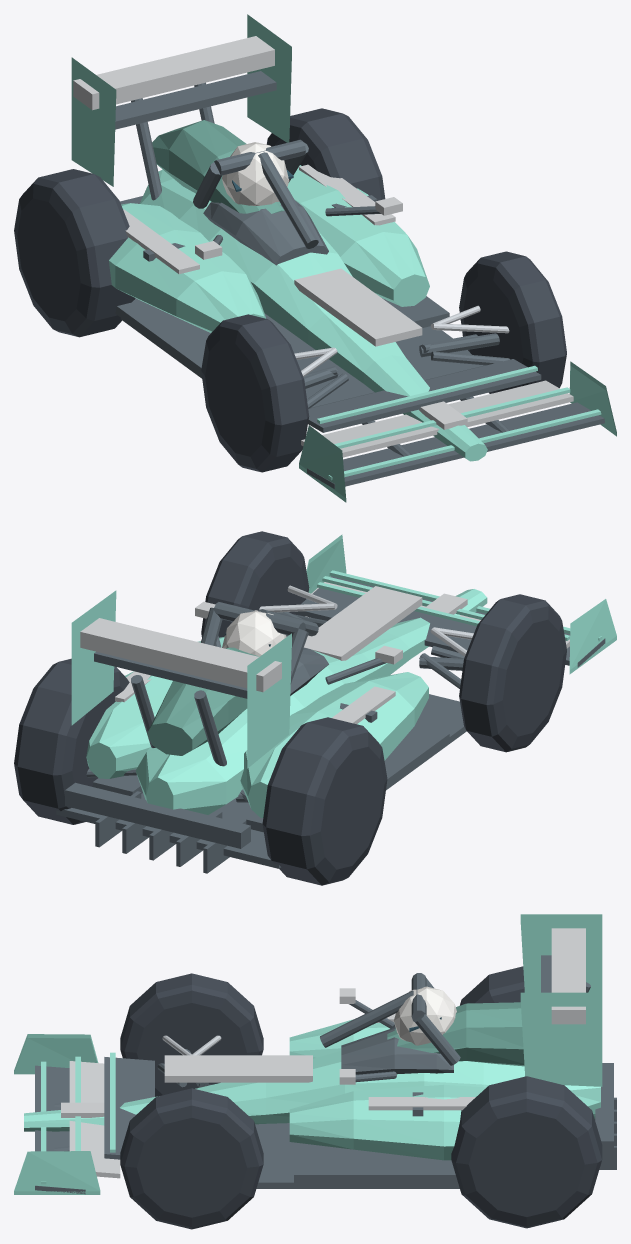
The model's file is mercedes_mobile.glb.
3 views of the same model, one above another, from view 1: azimuth 30°, elevation 25°; view 2: azimuth 150°, elevation 25°; view 3: azimuth 270°, elevation 25° (orthographic). The views are drawn at different scales.
Visible parts, largest first — view 1: BODY_paint, BODY_carbon, BODY_accent, RearLeftWheel_rubber, FrontLeftWheel_rubber, FrontRightWheel_rubber, RearRightWheel_rubber, BODY_paint_dark, BODY_helmet, BODY_metal; view 2: BODY_paint, BODY_carbon, RearLeftWheel_rubber, BODY_accent, FrontLeftWheel_rubber, RearRightWheel_rubber, FrontRightWheel_rubber, BODY_paint_dark, BODY_helmet, BODY_metal; view 3: BODY_paint, BODY_carbon, RearRightWheel_rubber, FrontRightWheel_rubber, BODY_accent, FrontLeftWheel_rubber, BODY_paint_dark, BODY_helmet, RearLeftWheel_rubber.
Boxes of the visible parts, left/top/right/bottom form: BODY_paint: left=71, top=14, right=616, bottom=502; BODY_carbon: left=115, top=71, right=604, bottom=488; BODY_accent: left=73, top=36, right=573, bottom=457; RearLeftWheel_rubber: left=14, top=169, right=135, bottom=337; FrontLeftWheel_rubber: left=201, top=314, right=309, bottom=472; FrontRightWheel_rubber: left=459, top=251, right=566, bottom=393; RearRightWheel_rubber: left=266, top=108, right=385, bottom=200; BODY_paint_dark: left=152, top=120, right=284, bottom=213; BODY_helmet: left=222, top=142, right=289, bottom=205; BODY_metal: left=294, top=305, right=509, bottom=376; BODY_paint: left=71, top=534, right=616, bottom=817; BODY_carbon: left=56, top=576, right=605, bottom=873; RearLeftWheel_rubber: left=262, top=717, right=387, bottom=885; BODY_accent: left=80, top=582, right=569, bottom=724; FrontLeftWheel_rubber: left=459, top=594, right=566, bottom=752; RearRightWheel_rubber: left=14, top=658, right=129, bottom=824; FrontRightWheel_rubber: left=201, top=531, right=309, bottom=637; BODY_paint_dark: left=147, top=647, right=258, bottom=755; BODY_helmet: left=222, top=610, right=286, bottom=656; BODY_metal: left=259, top=585, right=473, bottom=656; BODY_paint: left=14, top=914, right=602, bottom=1194; BODY_carbon: left=35, top=955, right=616, bottom=1194; RearRightWheel_rubber: left=451, top=1076, right=602, bottom=1228; FrontRightWheel_rubber: left=120, top=1088, right=263, bottom=1229; BODY_accent: left=61, top=928, right=585, bottom=1178; FrontLeftWheel_rubber: left=120, top=973, right=263, bottom=1096; BODY_paint_dark: left=387, top=1002, right=524, bottom=1066; BODY_helmet: left=394, top=986, right=456, bottom=1045; RearLeftWheel_rubber: left=460, top=966, right=524, bottom=1005.
Size of the model in its own units: 2.59 by 1.9 by 4.88.
